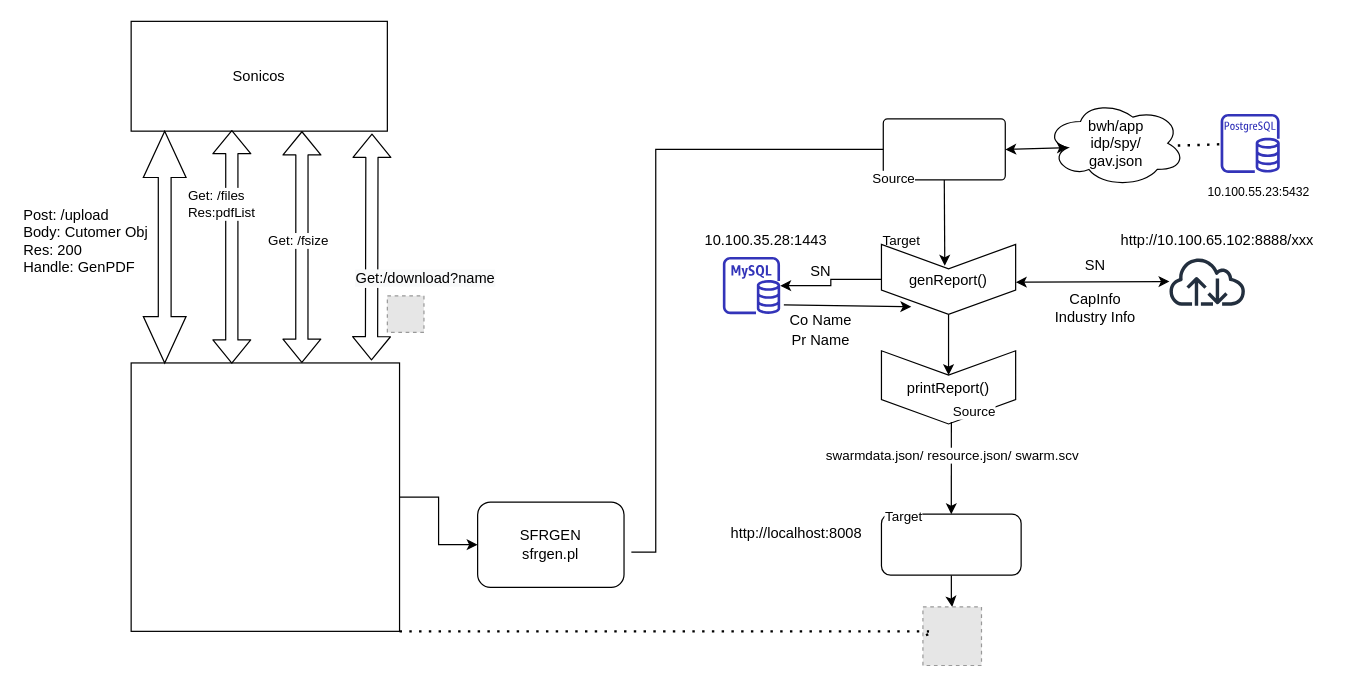
Image size: 1352x687. Some labels were removed from this diagram. Grey dashed boxes stand in for pictures. Here are the shapes that lost their labels. From the top down, the box of each, then its label:
(882, 118, 1005, 180): getDB()
(130, 362, 400, 631): APISVC Node.js Port: 5443
(880, 513, 1021, 575): PDFHTMLGenModle cta_server.js
